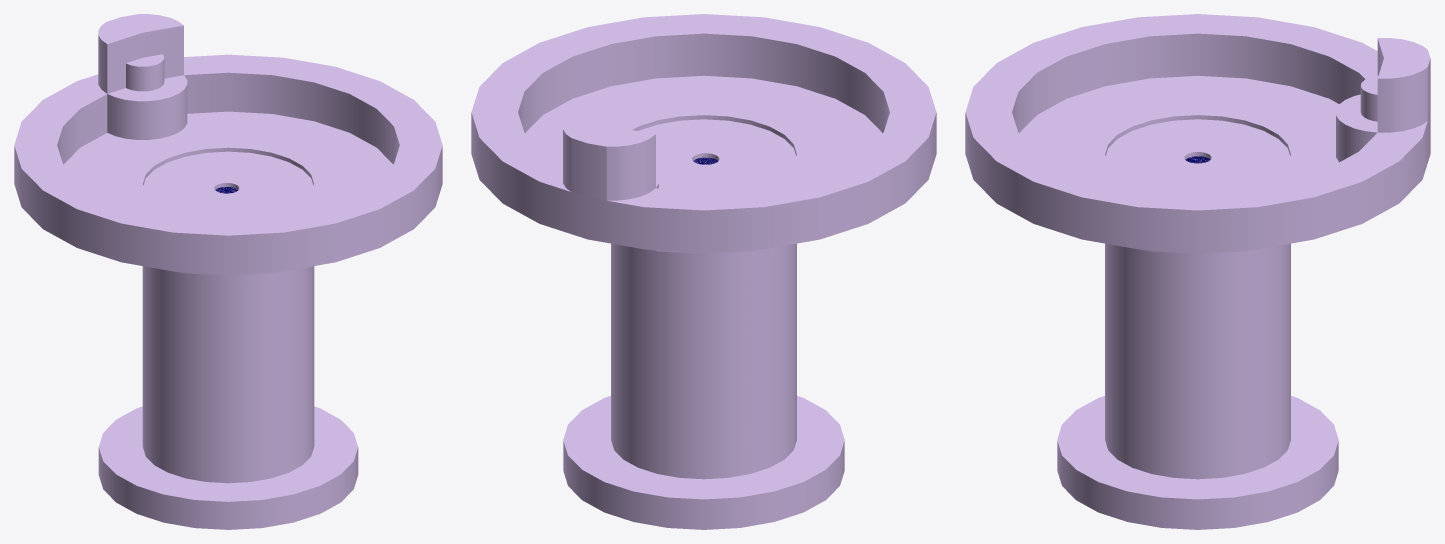
File: waterFountain.dae
3 views of the same model, side by side, from view 1: azimuth 30°, elevation 25°; view 2: azimuth 150°, elevation 25°; view 3: azimuth 270°, elevation 25° (orthographic). The views are drawn at different scales.
Parts seen in each view (by area): view 1: SketchUp (×3); view 2: SketchUp (×3); view 3: SketchUp (×3).
Boxes of the visible parts, x1=… form: SketchUp (×3): x1=14, y1=14, x2=442, y2=529; SketchUp (×3): x1=471, y1=14, x2=936, y2=529; SketchUp (×3): x1=965, y1=14, x2=1430, y2=529.
Size of the model in its own units: 1 by 1 by 0.978.
